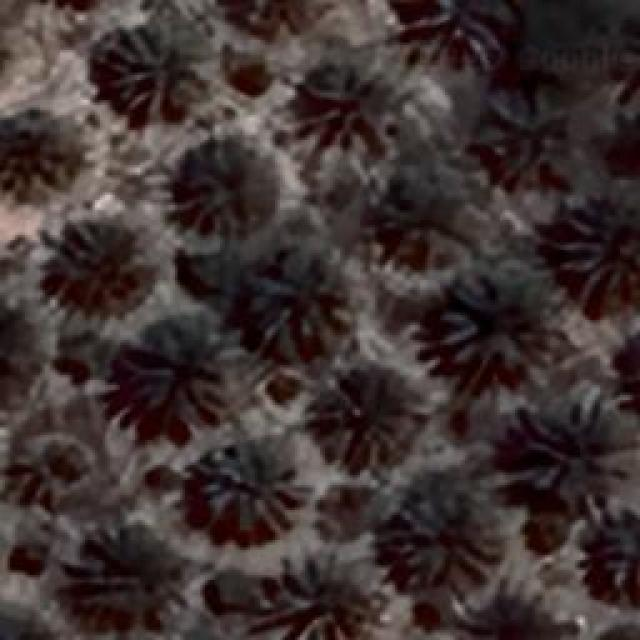PalmTree: (512, 390, 630, 495), (434, 275, 548, 380), (258, 544, 380, 638), (66, 532, 184, 628), (245, 248, 353, 350), (197, 438, 305, 538), (170, 140, 275, 235), (108, 22, 210, 118), (318, 371, 412, 471), (390, 498, 502, 580), (552, 190, 638, 295), (58, 218, 153, 306), (300, 74, 398, 158), (385, 176, 473, 269), (480, 84, 565, 178), (0, 104, 85, 198), (130, 330, 208, 430), (407, 0, 502, 62), (455, 586, 564, 640), (214, 0, 340, 42), (0, 306, 46, 398), (592, 524, 640, 598), (0, 604, 55, 640)
